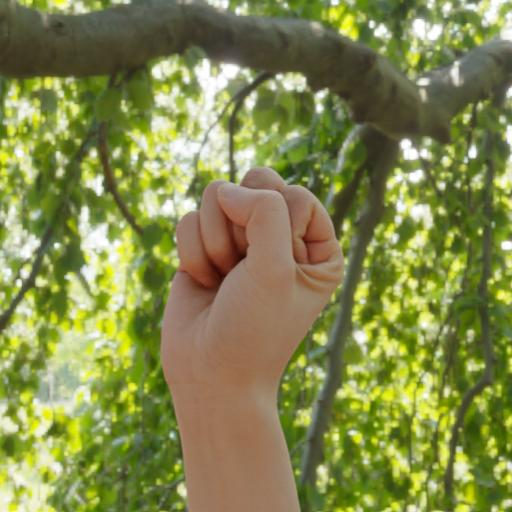S: (150, 153, 352, 404)
